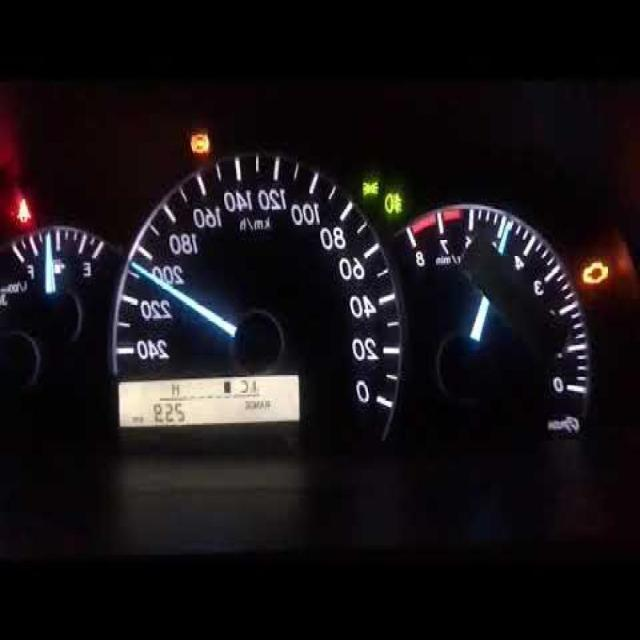Seat Belt: (16, 198, 30, 224)
